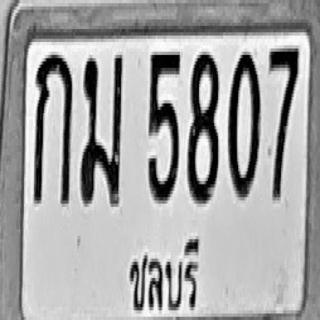A01: (33, 52, 72, 204)
A33: (80, 52, 123, 204)
N00: (227, 52, 260, 197)
N05: (147, 50, 180, 202)
N07: (268, 45, 299, 200)
N08: (187, 50, 218, 202)
P13: (123, 231, 201, 317)
